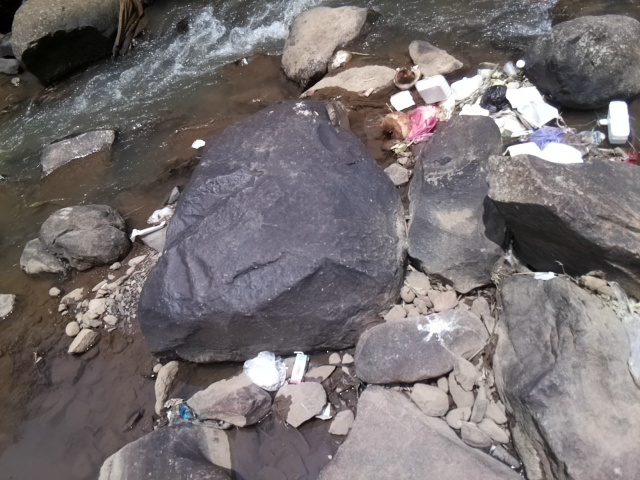Sampah_Plastik: (239, 348, 290, 394), (402, 103, 442, 146), (523, 124, 566, 147), (482, 83, 510, 116)
Sampah_Styrofoam: (507, 84, 564, 127), (507, 141, 584, 167), (604, 97, 633, 144), (415, 72, 454, 105), (128, 219, 173, 240), (452, 76, 484, 100), (387, 88, 415, 111), (190, 137, 206, 149)
